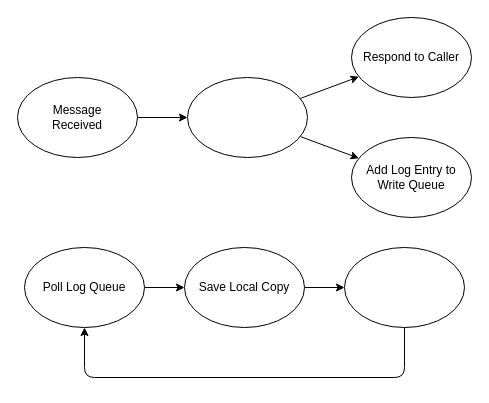
The diagram is 489 pixels wide and 403 high, and some of its shapes have lost their labels. The shapes that lost their labels are listed below. From the top down, each one's box as (x1, y1, x2, y2) in pixels, then its label:
(186, 76, 308, 158): Filter for Duplicates
(344, 246, 464, 328): Upload to LOtW
